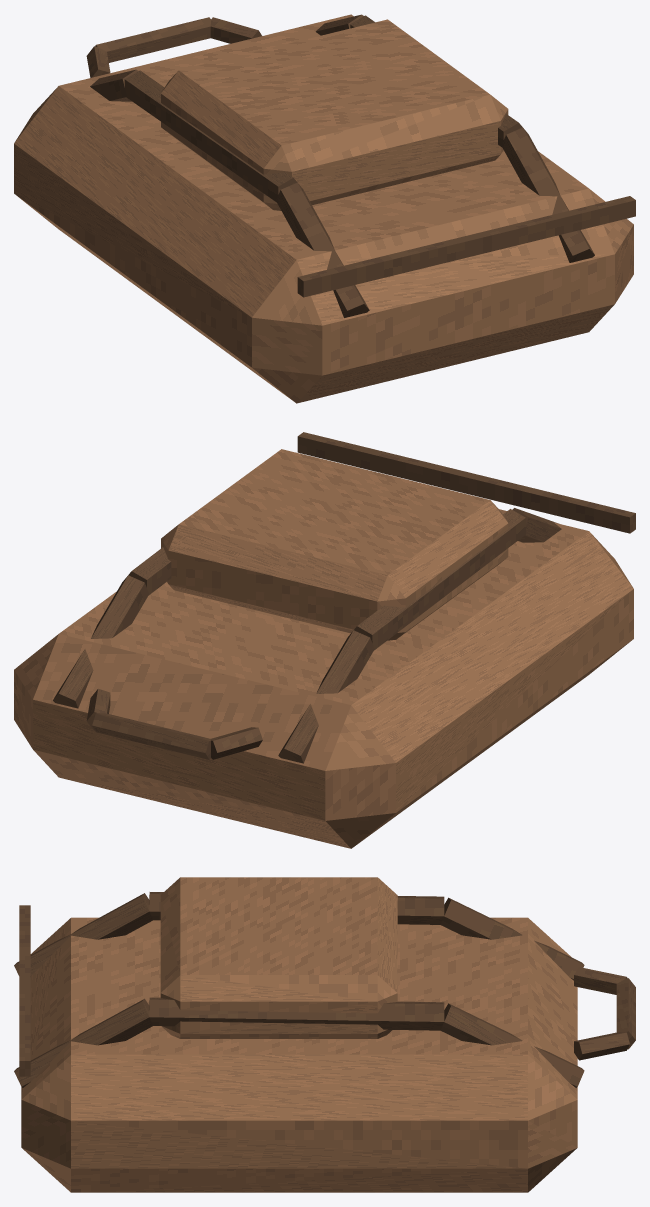
The model's file is backpack_hunting.glb.
3 views of the same model, one above another, from view 1: azimuth 30°, elevation 25°; view 2: azimuth 150°, elevation 25°; view 3: azimuth 270°, elevation 25° (orthographic). The views are drawn at different scales.
Parts seen in each view (by area): view 1: block_bag shell, block_front pocket, block_zipper, block_webbing strap 2 (×2), block_webbing strap 1 (×2), block_carry handle 1, block_carry handle 2, block_webbing strap 0, block_carry handle 0; view 2: block_bag shell, block_front pocket, block_zipper, block_webbing strap 0 (×2), block_webbing strap 1 (×2), block_carry handle 1, block_carry handle 0, block_webbing strap 2; view 3: block_bag shell, block_front pocket, block_webbing strap 1 (×2), block_webbing strap 2 (×2), block_webbing strap 0 (×2), block_zipper, block_carry handle 1, block_carry handle 2, block_carry handle 0.
Boxes of the visible parts, left/top/right/bottom form: block_bag shell: left=14, top=14, right=633, bottom=403; block_front pocket: left=161, top=19, right=508, bottom=210; block_zipper: left=297, top=196, right=635, bottom=297; block_webbing strap 2 (×2): left=276, top=127, right=594, bottom=317; block_webbing strap 1 (×2): left=124, top=15, right=523, bottom=203; block_carry handle 1: left=95, top=17, right=210, bottom=62; block_carry handle 2: left=210, top=17, right=261, bottom=43; block_webbing strap 0: left=90, top=69, right=138, bottom=101; block_carry handle 0: left=86, top=46, right=110, bottom=77; block_bag shell: left=14, top=509, right=633, bottom=848; block_front pocket: left=161, top=449, right=508, bottom=640; block_zipper: left=297, top=432, right=635, bottom=533; block_webbing strap 0 (×2): left=53, top=575, right=374, bottom=763; block_webbing strap 1 (×2): left=128, top=509, right=525, bottom=650; block_carry handle 1: left=92, top=713, right=210, bottom=759; block_carry handle 0: left=211, top=727, right=262, bottom=759; block_webbing strap 2: left=512, top=508, right=561, bottom=542; block_bag shell: left=21, top=917, right=577, bottom=1192; block_front pocket: left=160, top=877, right=397, bottom=1038; block_webbing strap 1 (×2): left=149, top=892, right=444, bottom=1030; block_webbing strap 2 (×2): left=14, top=893, right=152, bottom=1087; block_webbing strap 0 (×2): left=440, top=897, right=584, bottom=1087; block_zipper: left=19, top=905, right=30, bottom=1076; block_carry handle 1: left=616, top=978, right=635, bottom=1049; block_carry handle 2: left=574, top=1032, right=629, bottom=1060; block_carry handle 0: left=574, top=967, right=627, bottom=994.
Bounding box in the file's own units: 0.3625 × 0.1869 × 0.532.
1 material, 1 textured.
